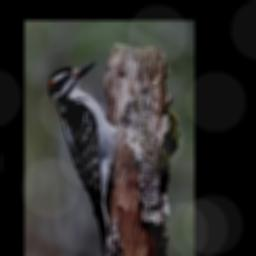Woodpecker: (48, 61, 119, 249)
